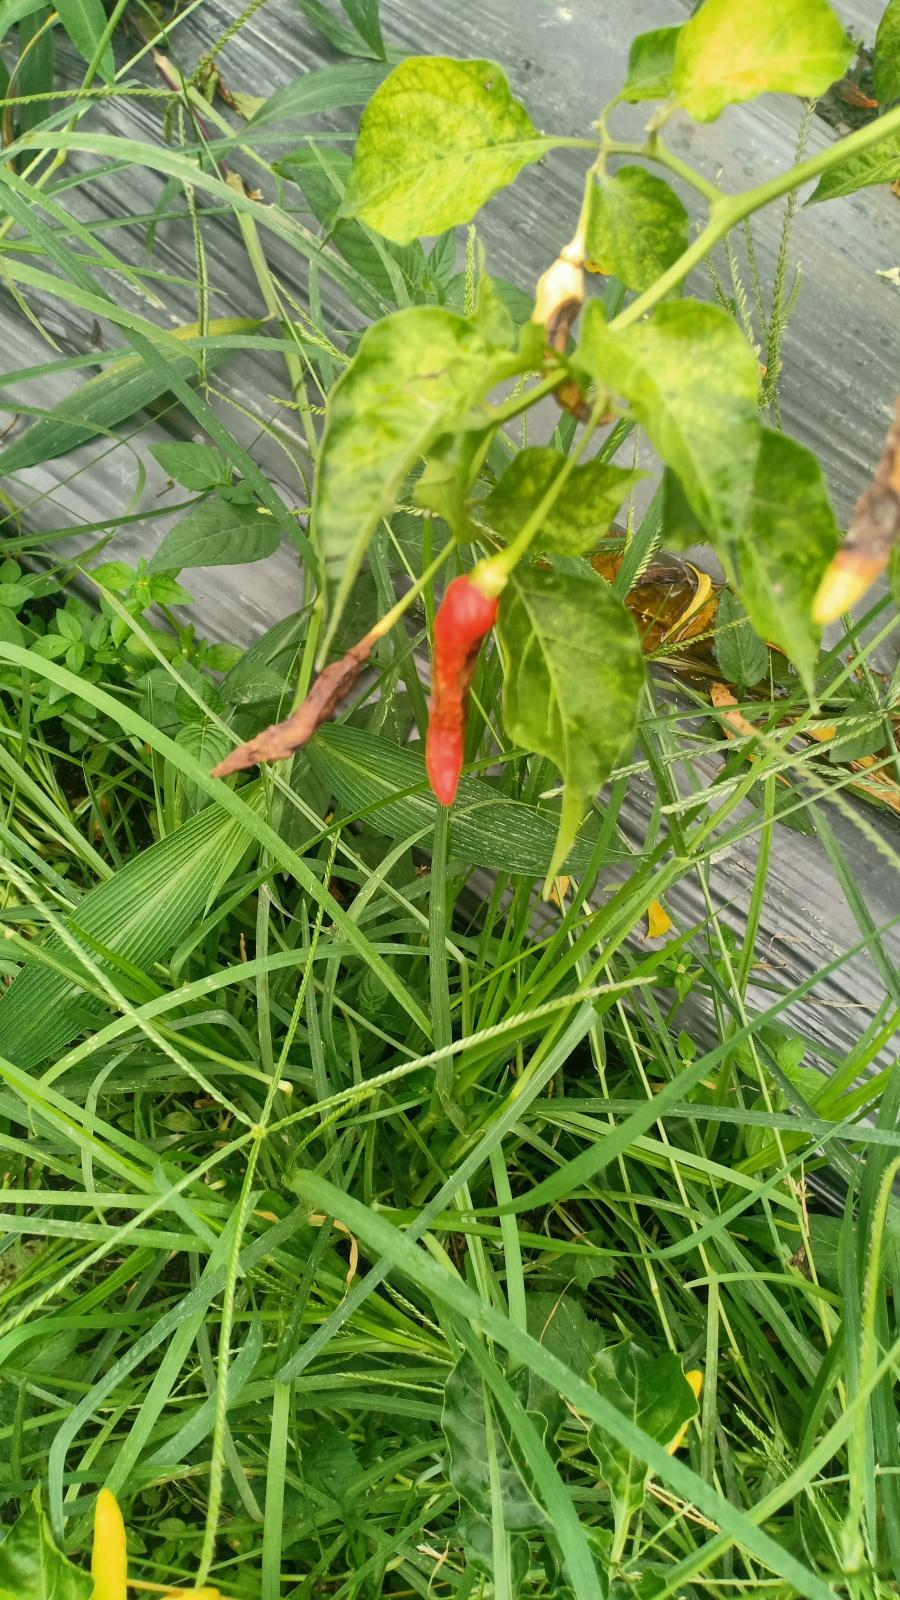antraknosa: (812, 405, 900, 626), (532, 259, 629, 418), (427, 579, 497, 800)
lalat_buah: (214, 656, 356, 780)
